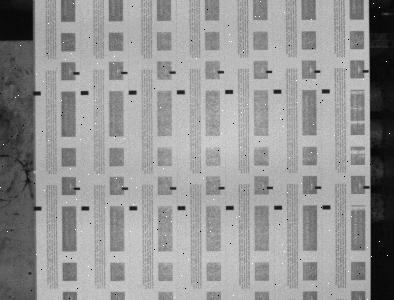backgroundclutter: (28, 272, 32, 275)
qblock: (34, 206, 42, 211), (226, 205, 234, 210), (129, 206, 138, 210), (33, 91, 41, 95), (81, 91, 89, 95), (322, 89, 330, 93), (129, 90, 137, 94), (274, 89, 282, 93), (225, 90, 233, 94), (177, 90, 185, 94), (81, 206, 89, 210), (323, 205, 331, 209), (274, 205, 282, 209), (178, 206, 186, 210)
smallqblock: (218, 70, 225, 74), (73, 72, 80, 75), (121, 71, 128, 74), (266, 70, 273, 73), (363, 70, 370, 73), (170, 187, 177, 190), (267, 186, 274, 189), (315, 186, 322, 189), (315, 70, 321, 73), (170, 71, 176, 74), (74, 187, 80, 190), (122, 187, 128, 190), (219, 187, 225, 190), (364, 186, 370, 189)
